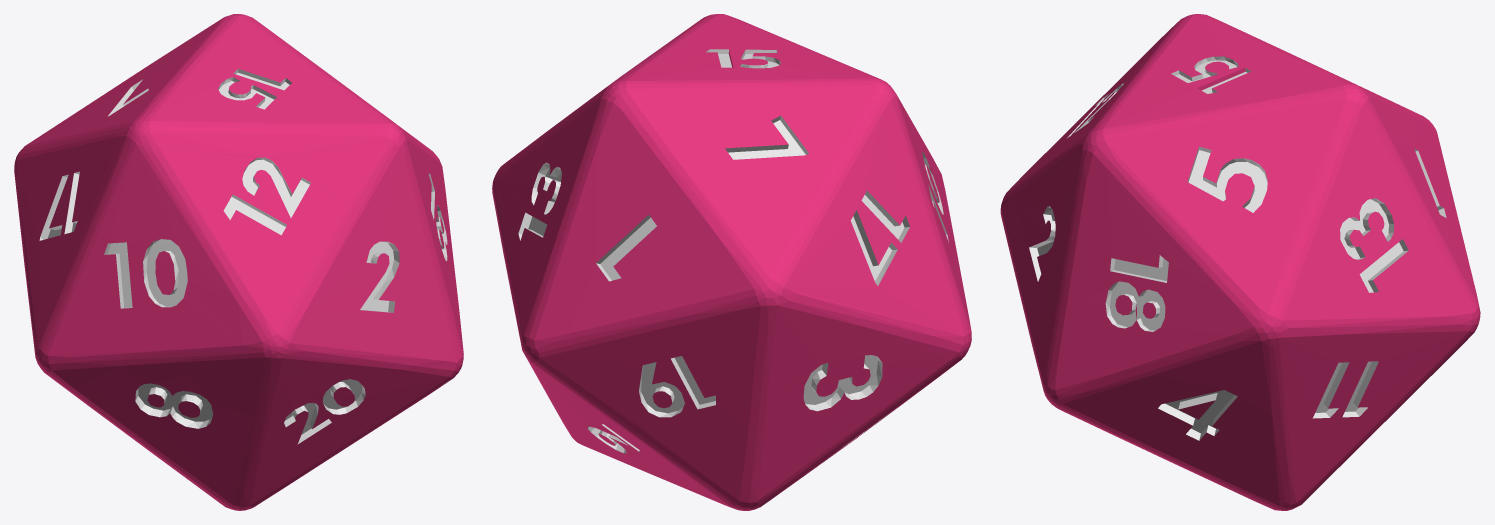
3 views of the same model, side by side, from view 1: azimuth 30°, elevation 25°; view 2: azimuth 150°, elevation 25°; view 3: azimuth 270°, elevation 25° (orthographic). The views are drawn at different scales.
Parts seen in each view (by area): view 1: D20 Base; view 2: D20 Base; view 3: D20 Base.
Part boxes in pixels (x1=…): D20 Base: x1=14, y1=14, x2=463, y2=510; D20 Base: x1=492, y1=14, x2=971, y2=510; D20 Base: x1=1000, y1=14, x2=1480, y2=510.
Bounding box in the file's own units: 52.14 × 46.2 × 49.68.
